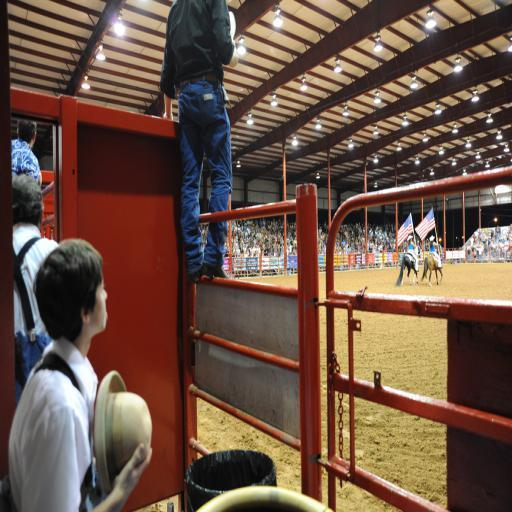horse: (397, 242, 422, 286), (419, 242, 444, 286)
